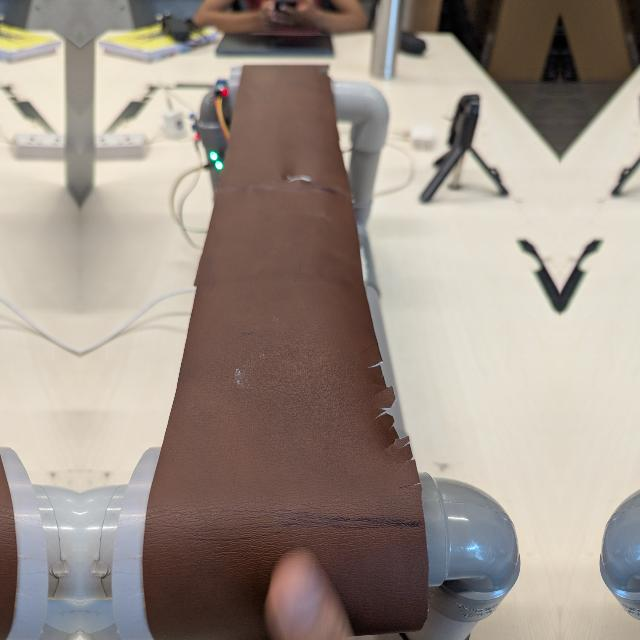edge_damage: (343, 338, 437, 497)
joint_damage: (257, 144, 345, 209)
